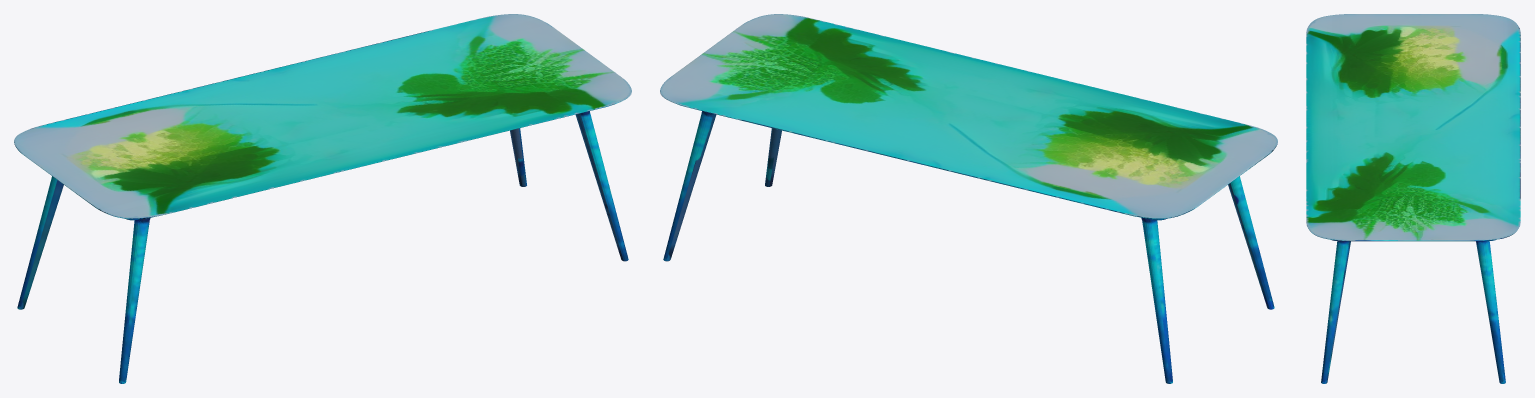
File: edited_mesh.glb
3 views of the same model, side by side, from view 1: azimuth 30°, elevation 25°; view 2: azimuth 150°, elevation 25°; view 3: azimuth 270°, elevation 25° (orthographic). The views are drawn at different scales.
Parts seen in each view (by area): view 1: normalized_model.obj; view 2: normalized_model.obj; view 3: normalized_model.obj.
Part boxes in pixels (x1,y1,x2,y2): normalized_model.obj: (14, 14, 631, 383); normalized_model.obj: (660, 14, 1277, 383); normalized_model.obj: (1306, 14, 1520, 383).
Size of the model in its own units: 2 by 0.6096 by 0.8.
1 material, 1 textured.
